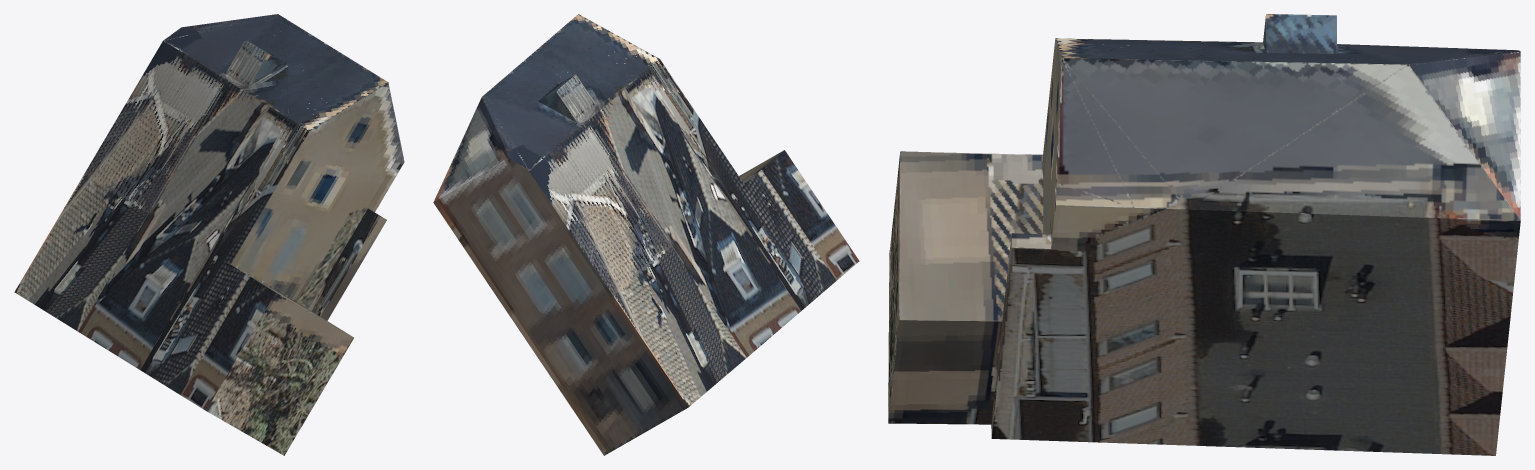
The picture shows the model from 3 angles, left to right: view 1: azimuth 30°, elevation 25°; view 2: azimuth 150°, elevation 25°; view 3: azimuth 270°, elevation 25°; orthographic projection. The views are drawn at different scales.
Parts seen in each view (by area): view 1: BAG_0599100000760417 (×4); view 2: BAG_0599100000760417 (×4); view 3: BAG_0599100000760417 (×6).
Part boxes in pixels (left/top/right/bottom): BAG_0599100000760417 (×4): left=14, top=14, right=404, bottom=455; BAG_0599100000760417 (×4): left=433, top=14, right=859, bottom=455; BAG_0599100000760417 (×6): left=888, top=14, right=1520, bottom=455.
Bounding box in the file's own units: 12.12 × 14.26 × 15.57.
Materials: 2 (1 with a texture image).
